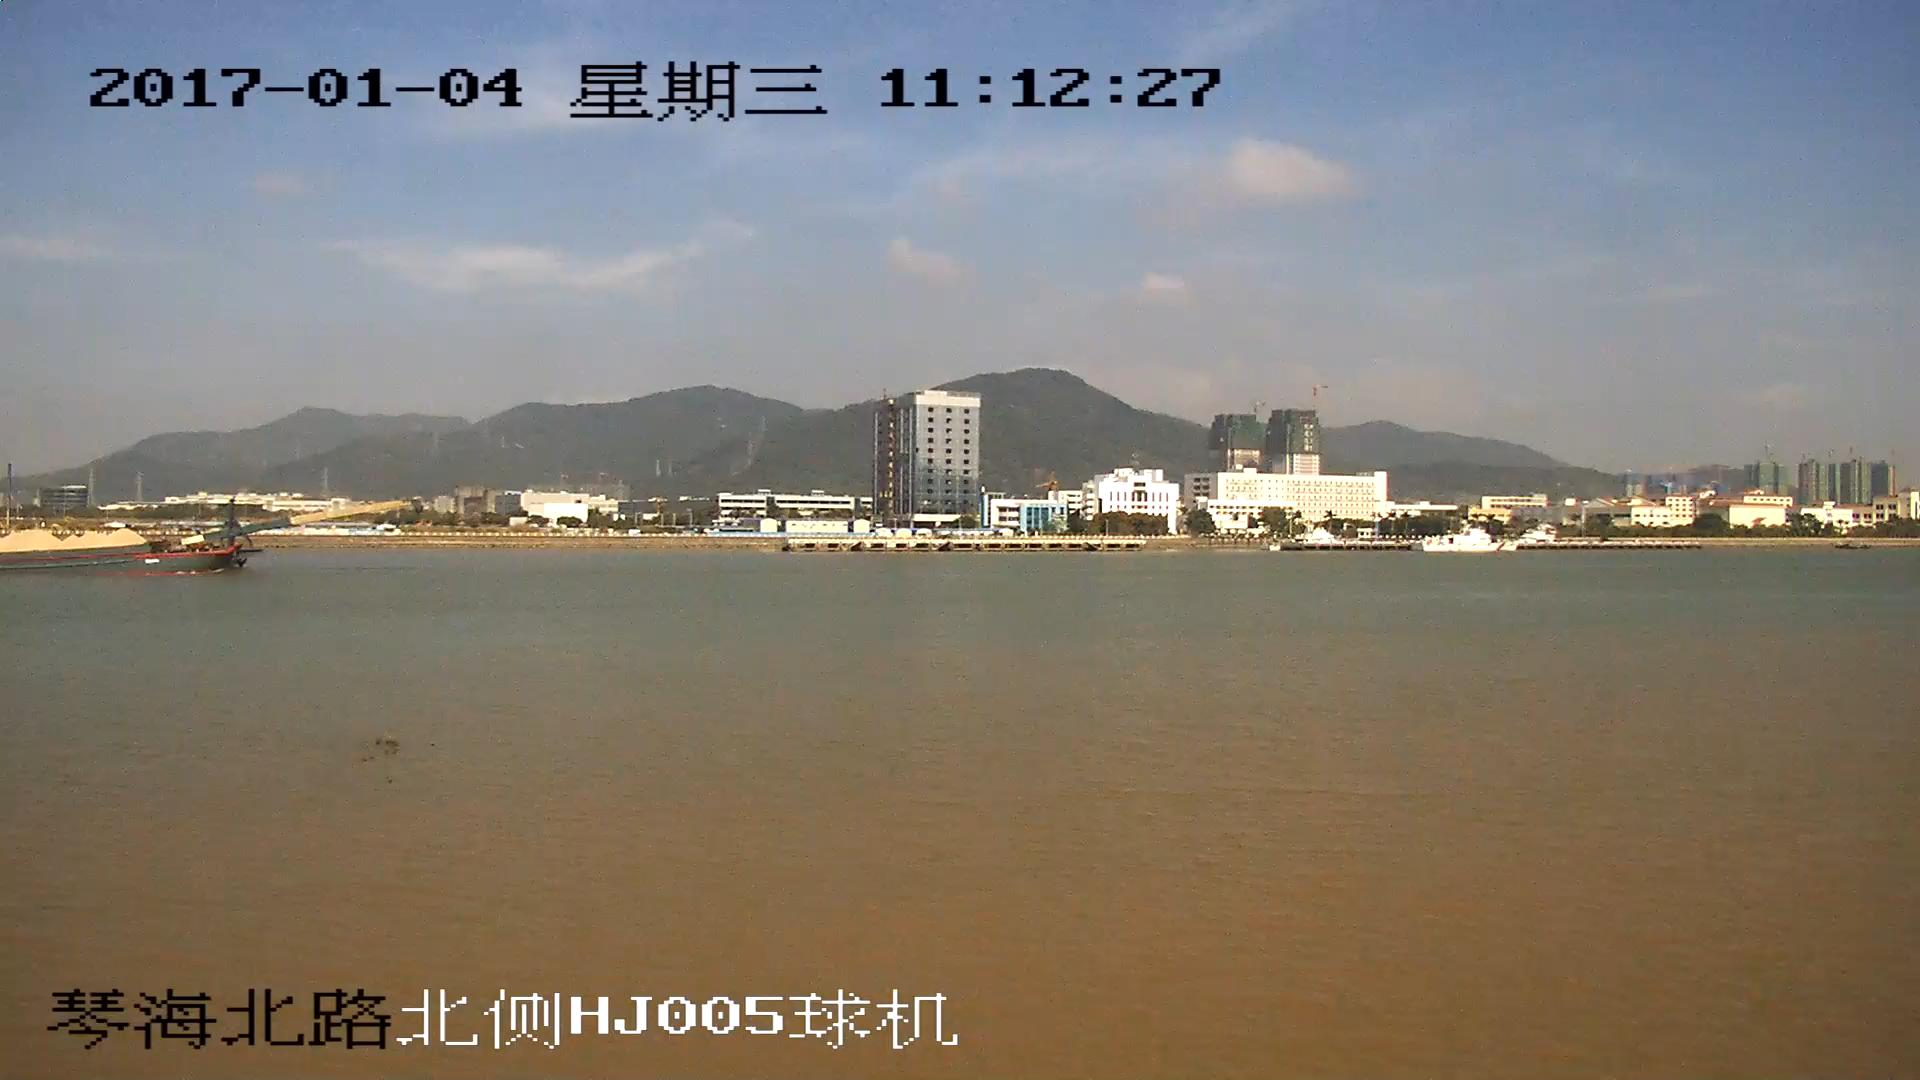ore carrier: (1, 501, 405, 574)
